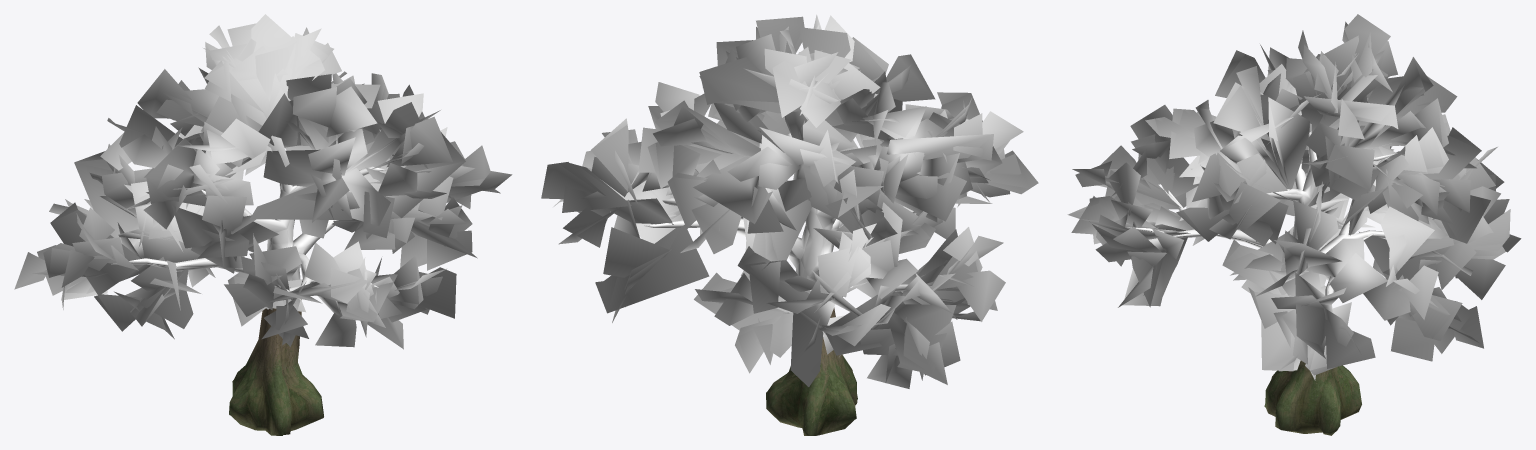
File: plants_me_tree_oak01_cv01.gltf
3 views of the same model, side by side, from view 1: azimuth 30°, elevation 25°; view 2: azimuth 150°, elevation 25°; view 3: azimuth 270°, elevation 25° (orthographic). The views are drawn at different scales.
Visible parts, largest first — view 1: um_plants_me_tree_oak01_cv01_model_lod0Shape:plants_oak02_br, um_plants_me_tree_oak01_cv01_model_lod1Shape:plants_oak02_br, um_plants_me_tree_oak01_cv01_model_lod0Shape:plants_me_tree_, um_plants_me_tree_oak01_cv01_model_lod1Shape:plants_me_tree_, um_plants_me_tree_oak01_cv01_model_lod0Shape:plants_oak01_tr, um_plants_me_tree_oak01_cv01_model_lod1Shape:plants_oak01_tr; view 2: um_plants_me_tree_oak01_cv01_model_lod0Shape:plants_oak02_br, um_plants_me_tree_oak01_cv01_model_lod1Shape:plants_oak02_br, um_plants_me_tree_oak01_cv01_model_lod0Shape:plants_me_tree_, um_plants_me_tree_oak01_cv01_model_lod1Shape:plants_me_tree_, um_plants_me_tree_oak01_cv01_model_lod0Shape:plants_oak01_tr, um_plants_me_tree_oak01_cv01_model_lod1Shape:plants_oak01_tr; view 3: um_plants_me_tree_oak01_cv01_model_lod0Shape:plants_oak02_br, um_plants_me_tree_oak01_cv01_model_lod1Shape:plants_oak02_br, um_plants_me_tree_oak01_cv01_model_lod0Shape:plants_me_tree_, um_plants_me_tree_oak01_cv01_model_lod1Shape:plants_me_tree_, um_plants_me_tree_oak01_cv01_model_lod0Shape:plants_oak01_tr, um_plants_me_tree_oak01_cv01_model_lod1Shape:plants_oak01_tr.
Part boxes in pixels (x1,y1,x2,y2): um_plants_me_tree_oak01_cv01_model_lod0Shape:plants_oak02_br: (14,14,511,349); um_plants_me_tree_oak01_cv01_model_lod1Shape:plants_oak02_br: (46,27,511,338); um_plants_me_tree_oak01_cv01_model_lod0Shape:plants_me_tree_: (229,308,323,435); um_plants_me_tree_oak01_cv01_model_lod1Shape:plants_me_tree_: (229,299,323,435); um_plants_me_tree_oak01_cv01_model_lod0Shape:plants_oak01_tr: (111,166,386,291); um_plants_me_tree_oak01_cv01_model_lod1Shape:plants_oak01_tr: (133,170,382,291); um_plants_me_tree_oak01_cv01_model_lod0Shape:plants_oak02_br: (541,14,1038,388); um_plants_me_tree_oak01_cv01_model_lod1Shape:plants_oak02_br: (541,15,1029,375); um_plants_me_tree_oak01_cv01_model_lod0Shape:plants_me_tree_: (767,307,857,435); um_plants_me_tree_oak01_cv01_model_lod1Shape:plants_me_tree_: (766,310,857,435); um_plants_me_tree_oak01_cv01_model_lod0Shape:plants_oak01_tr: (644,153,932,297); um_plants_me_tree_oak01_cv01_model_lod1Shape:plants_oak01_tr: (657,133,931,287); um_plants_me_tree_oak01_cv01_model_lod0Shape:plants_oak02_br: (1068,14,1520,380); um_plants_me_tree_oak01_cv01_model_lod1Shape:plants_oak02_br: (1069,32,1520,370); um_plants_me_tree_oak01_cv01_model_lod0Shape:plants_me_tree_: (1265,365,1361,435); um_plants_me_tree_oak01_cv01_model_lod1Shape:plants_me_tree_: (1264,360,1361,435); um_plants_me_tree_oak01_cv01_model_lod0Shape:plants_oak01_tr: (1127,124,1397,295); um_plants_me_tree_oak01_cv01_model_lod1Shape:plants_oak01_tr: (1143,132,1385,293).
Size of what is drawn, in the model's own units: 37.37 by 31.66 by 32.77.
4 materials, 1 textured.
